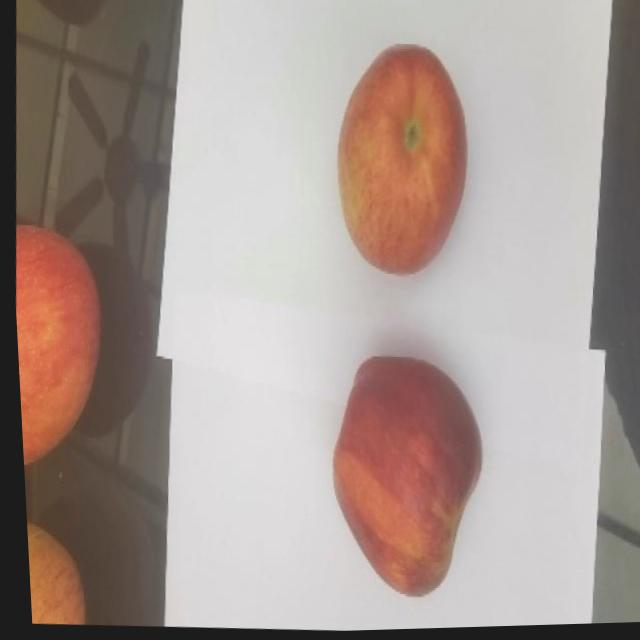Apple: (314, 348, 491, 608), (321, 35, 480, 286), (9, 220, 103, 469), (21, 520, 88, 624)
